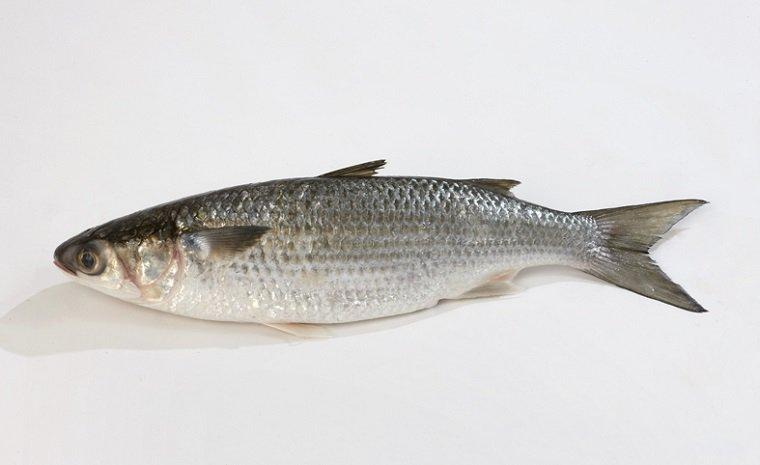Mullet: (49, 162, 705, 339)
